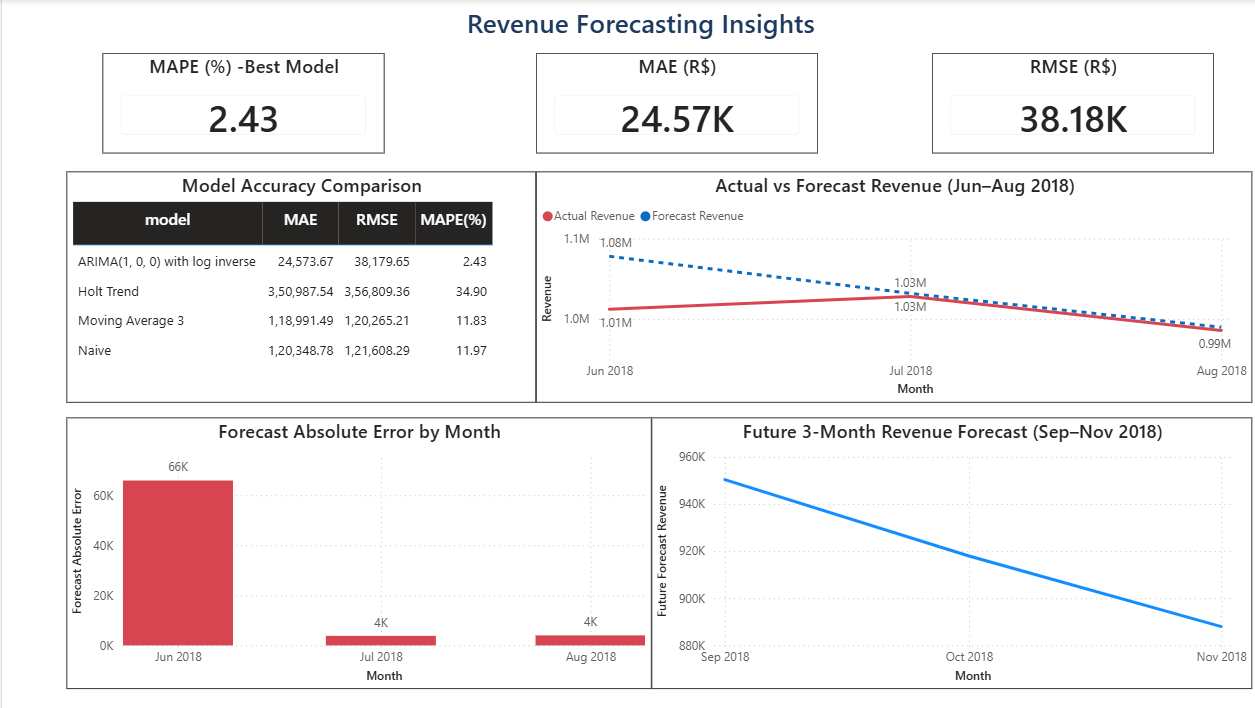

This screenshot's page, from the dashboard's own definition file:
{"tool":"powerbi","page":{"name":"Forecasting Insights","canvas":[1280,720],"ordinal":3},"visuals":[{"type":"textbox","box":[10.6,0,1268.9,66.6],"z":0},{"type":"cardVisual","title":"MAPE (%) -Best Model","fields":{"Data":["phase4_model_accuracy.Forecast MAPE"]},"box":[101.5,54.5,284.7,101.5],"z":1000},{"type":"cardVisual","title":"MAE (R$)","fields":{"Data":["phase4_model_accuracy.Forecast MAE"]},"box":[539.1,54.5,284.7,101.5],"z":2000},{"type":"cardVisual","title":"RMSE (R$)","fields":{"Data":["phase4_model_accuracy.Forecast RMSE"]},"box":[938.8,54.5,284.7,101.5],"z":3000},{"type":"tableEx","title":"Model Accuracy Comparison","fields":{"Values":["phase4_model_accuracy.model","Sum(phase4_model_accuracy.MAE)","Sum(phase4_model_accuracy.RMSE)","Sum(phase4_model_accuracy.MAPE_percent)"]},"box":[65.1,174.1,473.9,233.2],"z":4000},{"type":"lineChart","title":"Actual vs Forecast Revenue (Jun–Aug 2018)","fields":{"Y":["phase4_forecast_comparison.Actual Revenue","phase4_forecast_comparison.Forecast Revenue"],"Category":["phase4_forecast_comparison.order_month"]},"box":[539.1,174.1,723.8,233.2],"z":5000},{"type":"clusteredColumnChart","title":"Forecast Absolute Error by Month","fields":{"Y":["phase4_forecast_comparison.Forecast Absolute Error"],"Category":["phase4_forecast_comparison.order_month"]},"box":[65.1,422.5,590.5,274.1],"z":6000},{"type":"lineChart","title":"Future 3-Month Revenue Forecast (Sep–Nov 2018)","fields":{"Category":["phase4_future_revenue_forecast.forecast_month"],"Y":["phase4_future_revenue_forecast.Future Forecast Revenue"]},"box":[655.7,422.5,607.2,274.1],"z":7000}]}

Visuals, with their boxes in screenshot pixels (x1, y1, x2, y2), scaled from the page's 1280x720 canvas onto the 1255x708 screenshot:
textbox: <box>10,0,1254,65</box>
"MAPE (%) -Best Model" cardVisual: <box>100,54,379,153</box>
"MAE (R$)" cardVisual: <box>529,54,808,153</box>
"RMSE (R$)" cardVisual: <box>920,54,1200,153</box>
"Model Accuracy Comparison" tableEx: <box>64,171,528,401</box>
"Actual vs Forecast Revenue (Jun–Aug 2018)" lineChart: <box>529,171,1238,401</box>
"Forecast Absolute Error by Month" clusteredColumnChart: <box>64,415,643,685</box>
"Future 3-Month Revenue Forecast (Sep–Nov 2018)" lineChart: <box>643,415,1238,685</box>
